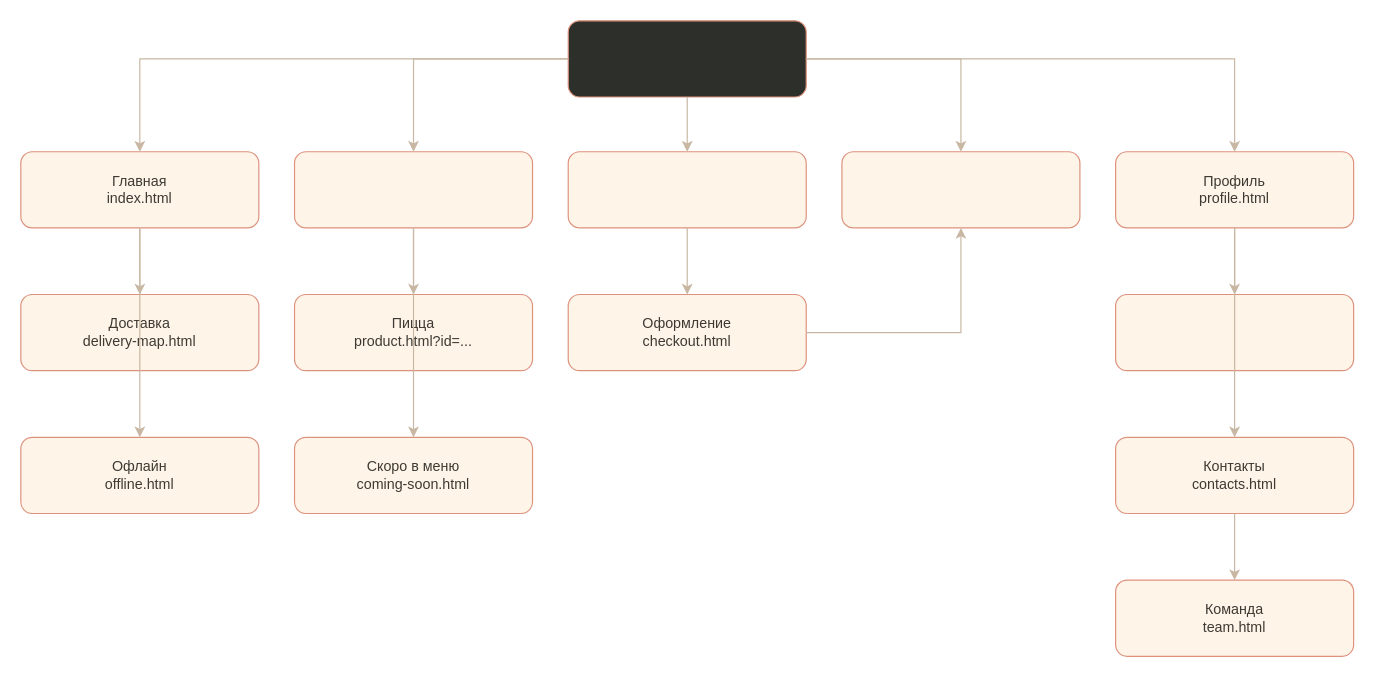
Image size: 1374x677. Some labels were removed from this diagram. Here are the shapes that lost their labels. From the top down, the box of each, then its label:
(567, 20, 806, 97): PizzaPoint PWA 13 экранов
(293, 151, 533, 228): Меню products.html
(567, 151, 806, 228): Корзина cart.html
(841, 151, 1080, 228): Мои заказы orders.html
(1114, 293, 1354, 371): Избранное favorites.html
